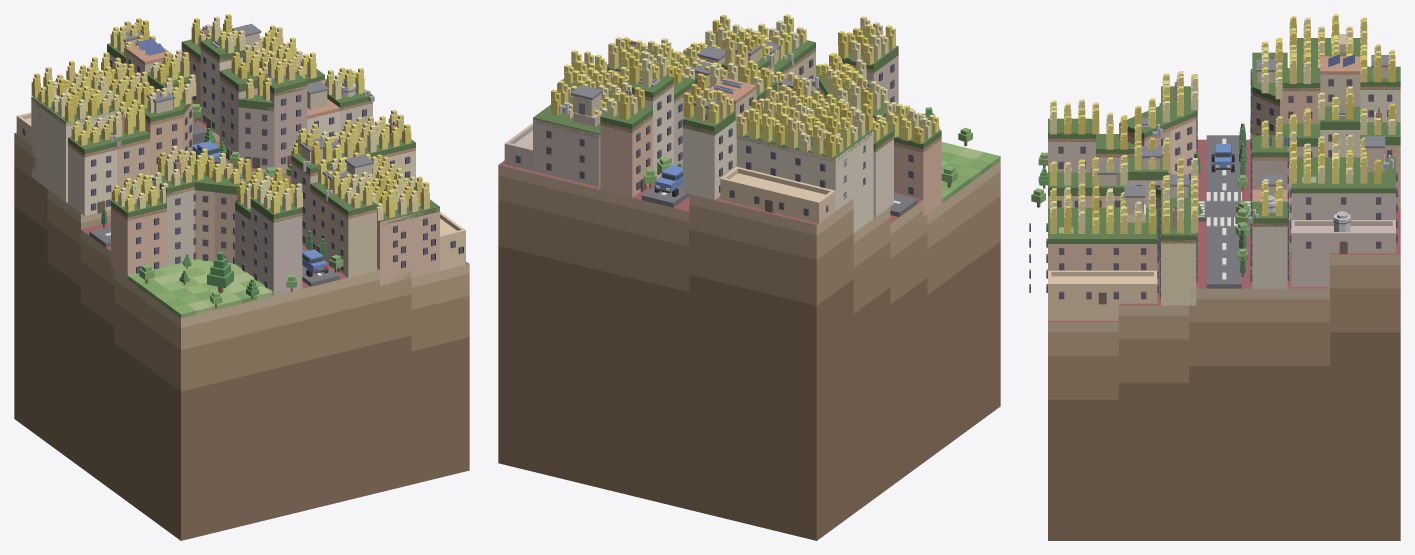
Rendered from block_16_urbanfarm_65.glb.
The picture shows the model from 3 angles, left to right: view 1: azimuth 30°, elevation 25°; view 2: azimuth 150°, elevation 25°; view 3: azimuth 270°, elevation 25°; orthographic projection. The views are drawn at different scales.
Parts seen in each view (by area): view 1: Patch_MidRight_b18_UF, Cerda_MidRight_b18_UF, Insets_MidRight_b18_UF, UFR_Cerda_MidRight_b18_UF, Green_MidRight_b18_UF, CerdaRoofProps_MidRight_b18_UF, UFR_Insets_MidRight_b18_UF, Roads_MidRight_b18_UF, Asset_Tree_Pine.005_UF; view 2: Patch_MidRight_b18_UF, Cerda_MidRight_b18_UF, Insets_MidRight_b18_UF, UFR_Cerda_MidRight_b18_UF, CerdaRoofProps_MidRight_b18_UF, Green_MidRight_b18_UF, UFR_Insets_MidRight_b18_UF, Roads_MidRight_b18_UF, Asset_Car.033_UF; view 3: Patch_MidRight_b18_UF, Cerda_MidRight_b18_UF, Insets_MidRight_b18_UF, UFR_Cerda_MidRight_b18_UF, UFR_Insets_MidRight_b18_UF, CerdaRoofProps_MidRight_b18_UF, Roads_MidRight_b18_UF, Zebra_MidRight_b18_UF, Asset_Car.034_UF.
Boxes of the visible parts, <box> form: Patch_MidRight_b18_UF: <box>14,117,469,540</box>; Cerda_MidRight_b18_UF: <box>68,42,415,295</box>; Insets_MidRight_b18_UF: <box>16,73,465,285</box>; UFR_Cerda_MidRight_b18_UF: <box>68,38,415,222</box>; Green_MidRight_b18_UF: <box>121,259,281,318</box>; CerdaRoofProps_MidRight_b18_UF: <box>110,24,396,203</box>; UFR_Insets_MidRight_b18_UF: <box>31,69,439,224</box>; Roads_MidRight_b18_UF: <box>89,121,339,286</box>; Asset_Tree_Pine.005_UF: <box>207,251,233,293</box>; Patch_MidRight_b18_UF: <box>498,160,1000,540</box>; Cerda_MidRight_b18_UF: <box>557,48,941,216</box>; Insets_MidRight_b18_UF: <box>504,110,873,232</box>; UFR_Cerda_MidRight_b18_UF: <box>557,40,941,152</box>; CerdaRoofProps_MidRight_b18_UF: <box>559,40,913,139</box>; Green_MidRight_b18_UF: <box>941,142,1000,203</box>; UFR_Insets_MidRight_b18_UF: <box>533,104,873,162</box>; Roads_MidRight_b18_UF: <box>641,184,917,216</box>; Asset_Car.033_UF: <box>654,165,682,196</box>; Patch_MidRight_b18_UF: <box>1048,139,1400,540</box>; Cerda_MidRight_b18_UF: <box>1048,56,1400,305</box>; Insets_MidRight_b18_UF: <box>1029,34,1397,320</box>; UFR_Cerda_MidRight_b18_UF: <box>1048,52,1400,243</box>; UFR_Insets_MidRight_b18_UF: <box>1048,38,1395,243</box>; CerdaRoofProps_MidRight_b18_UF: <box>1091,54,1393,231</box>; Roads_MidRight_b18_UF: <box>1198,135,1250,288</box>; Zebra_MidRight_b18_UF: <box>1198,192,1250,226</box>; Asset_Car.034_UF: <box>1211,144,1234,172</box>.
Bounding box in the file's own units: 9.5 × 11.83 × 10.
